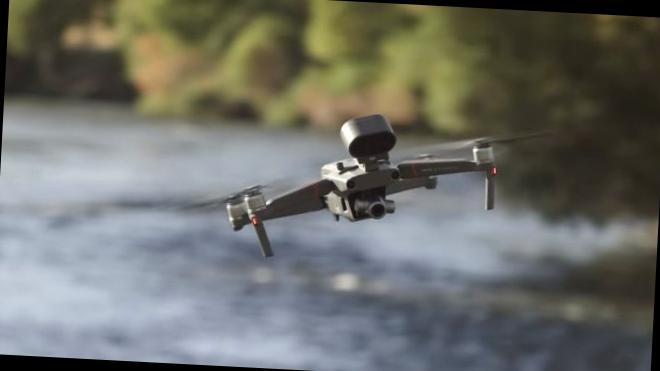drone: (208, 89, 528, 273)
